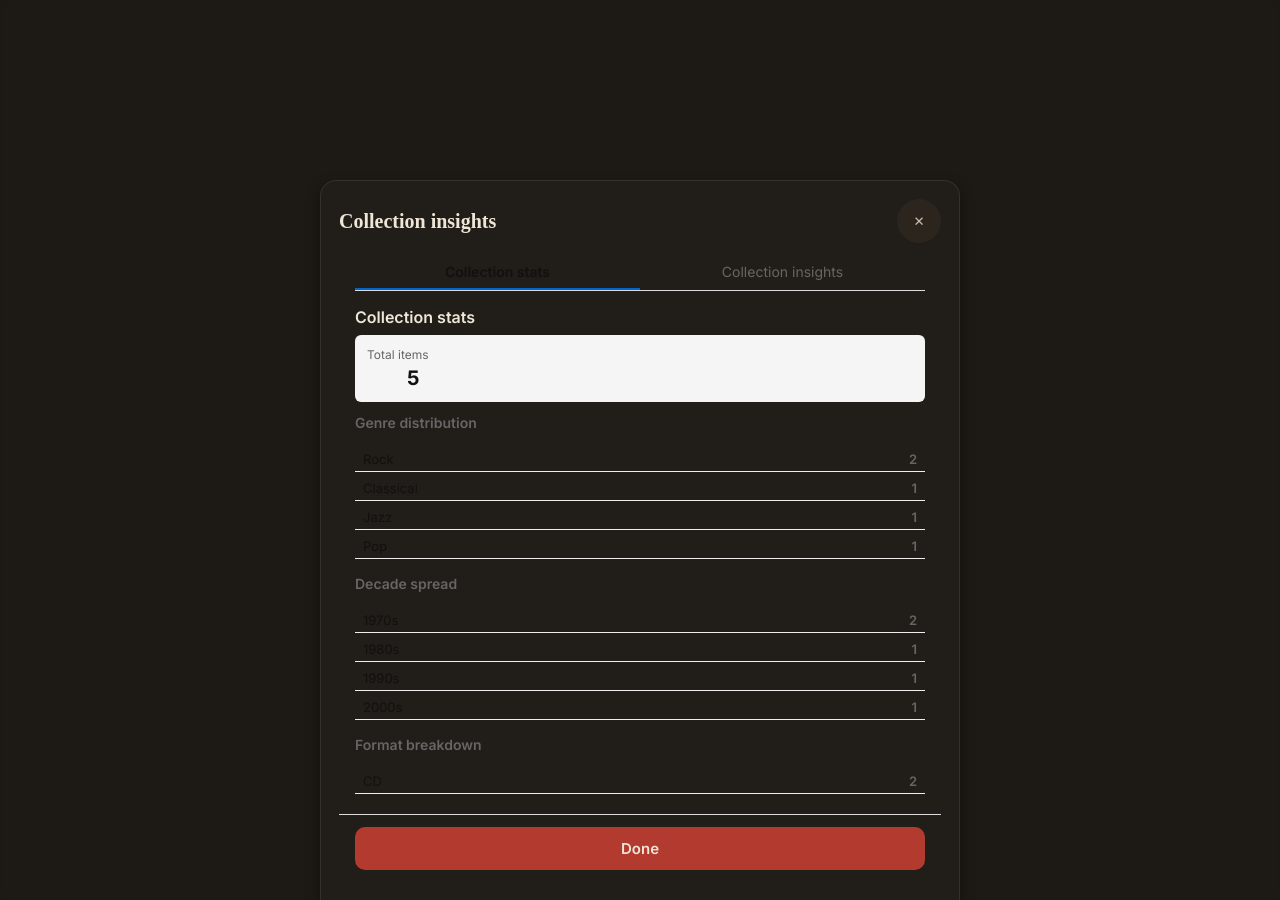
InsightsDashboard — AI Insights tab › generates and displays insights
The image size is (1280, 900).
// Switch to AI tab
Click the tab "Collection insights" at (782, 272), box [640,255,925,290]
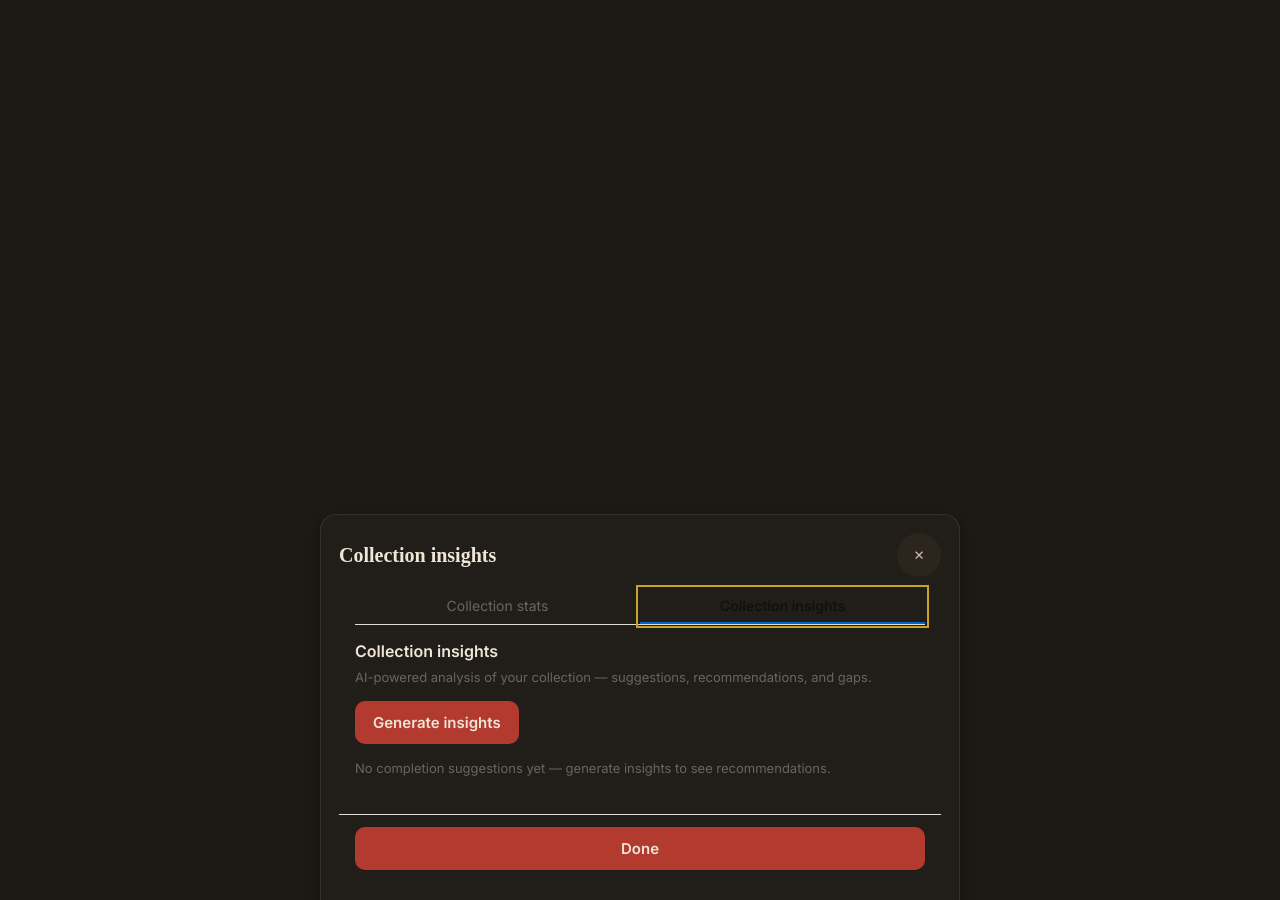
// Click generate
Click the button "Generate insights" at (437, 722), box [355,701,519,744]
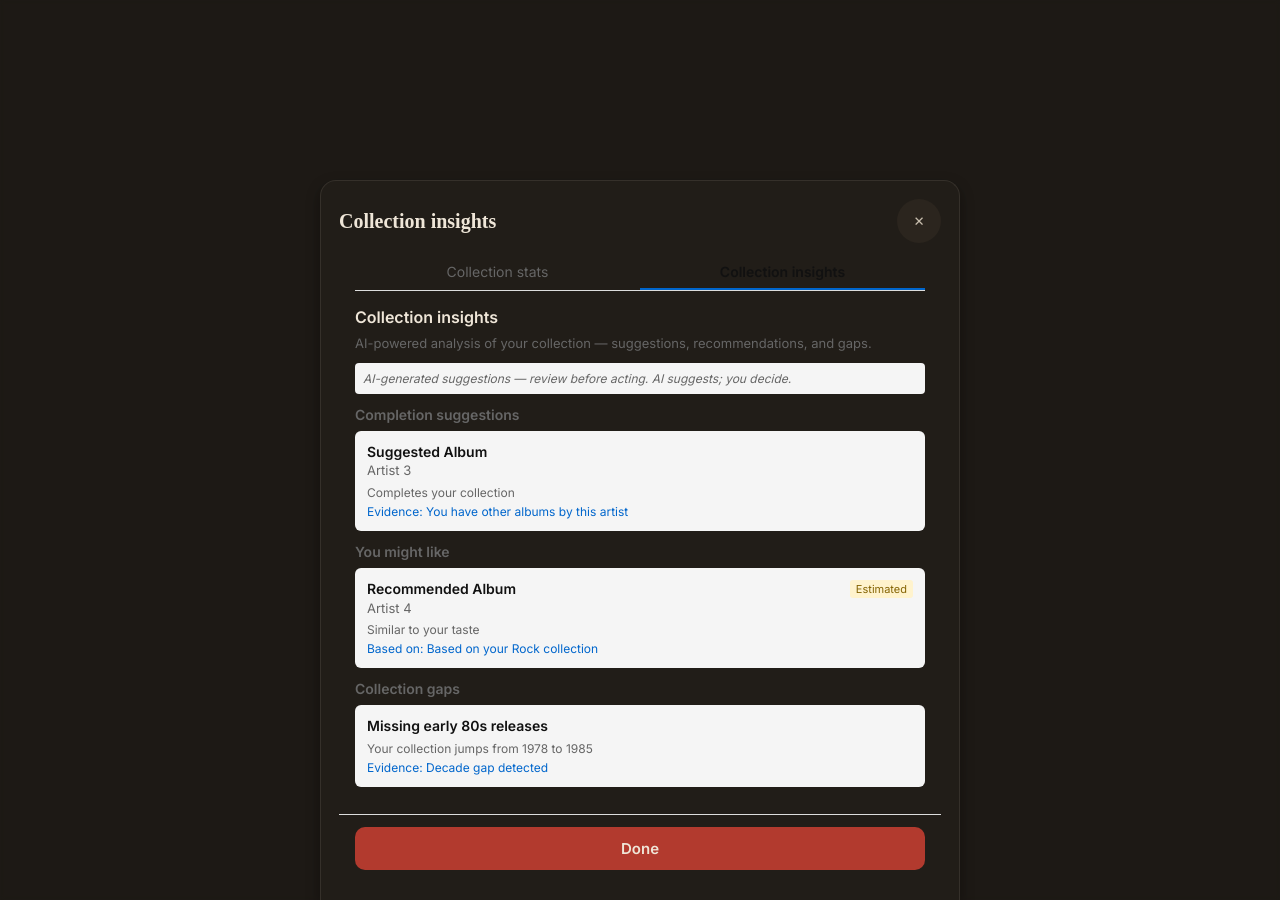
Expected: the text "Suggested Album" is shown, [367,443,487,460]
Expected: the text "Recommended Album" is shown, [367,580,516,597]
Expected: the text "Missing early 80s releases" is shown, [367,717,548,734]
